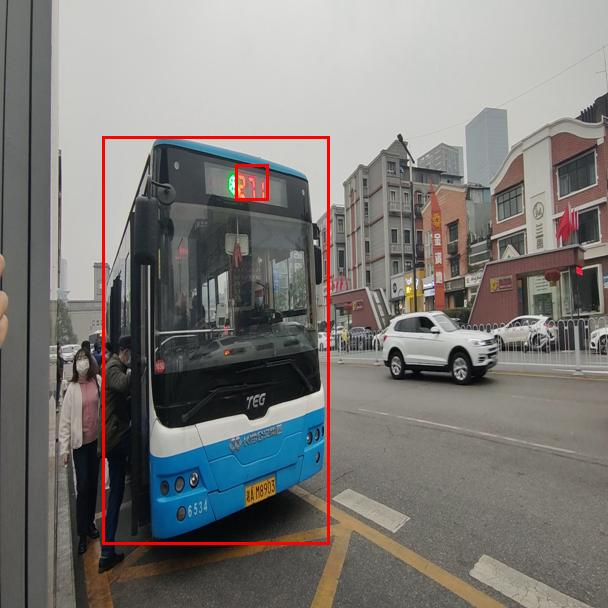bus: (102, 136, 329, 544)
screen: (235, 164, 268, 200)
